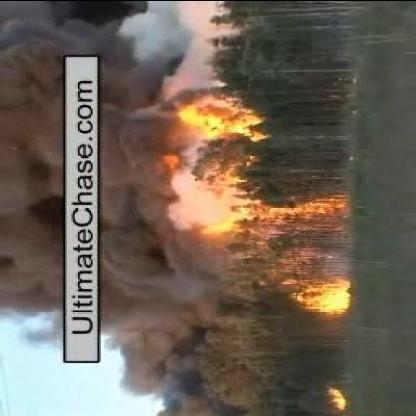-: (102, 41, 168, 389), (4, 55, 61, 336)
foggia-v2-map80-epoch100 - v1 4323: (300, 278, 350, 314)
